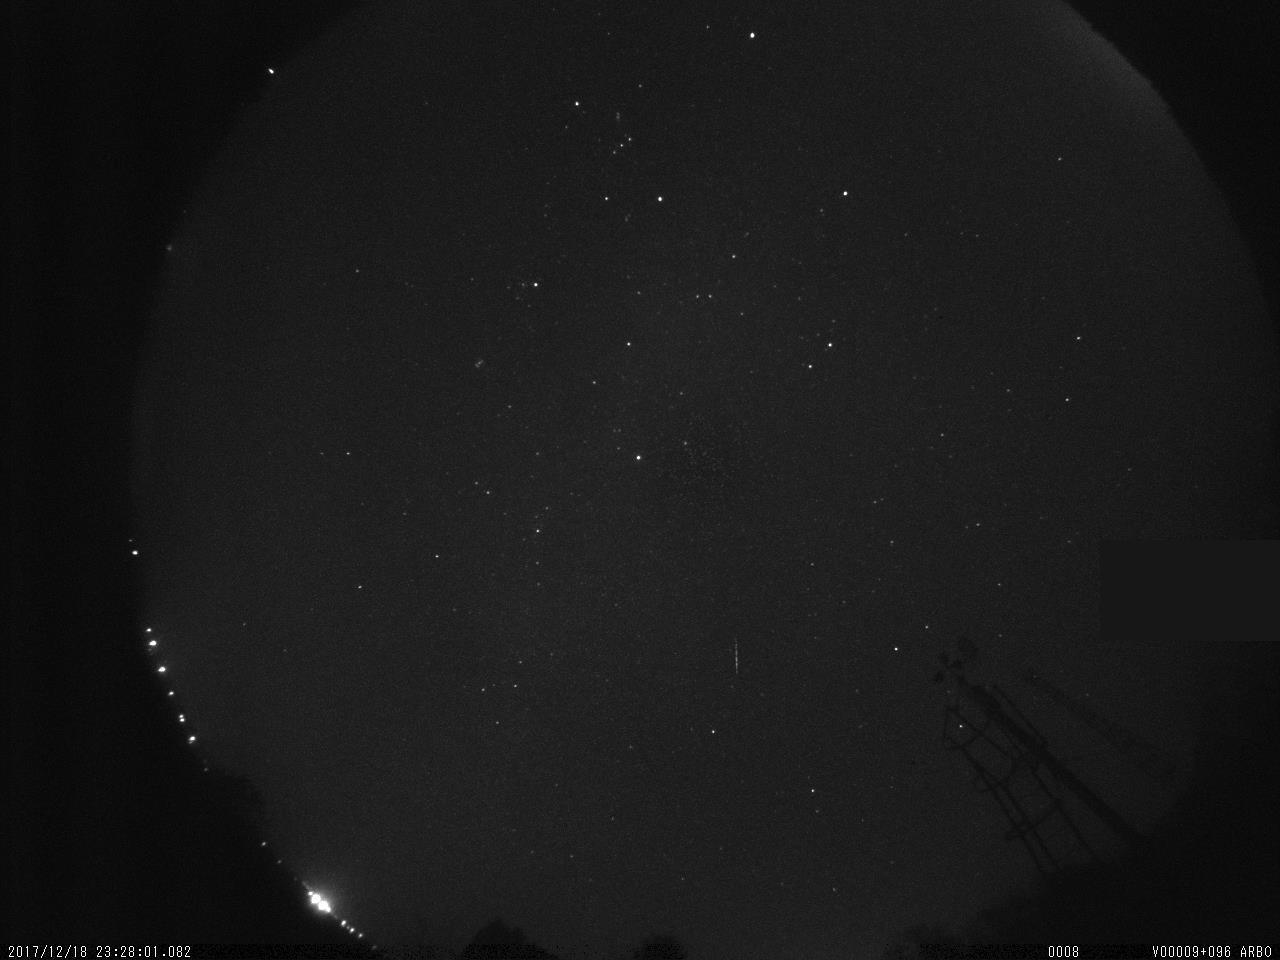meteor: (725, 629, 753, 689)
